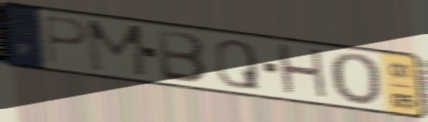B: (154, 27, 210, 86)
H: (274, 41, 331, 104)
M: (84, 18, 152, 80)
O: (326, 51, 383, 109)
P: (41, 12, 92, 66)
Q: (213, 38, 263, 93)
